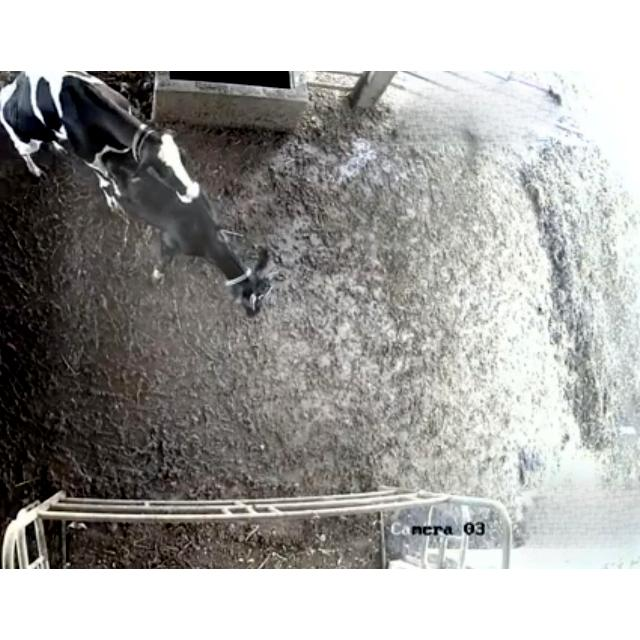ride: (0, 71, 204, 235)
